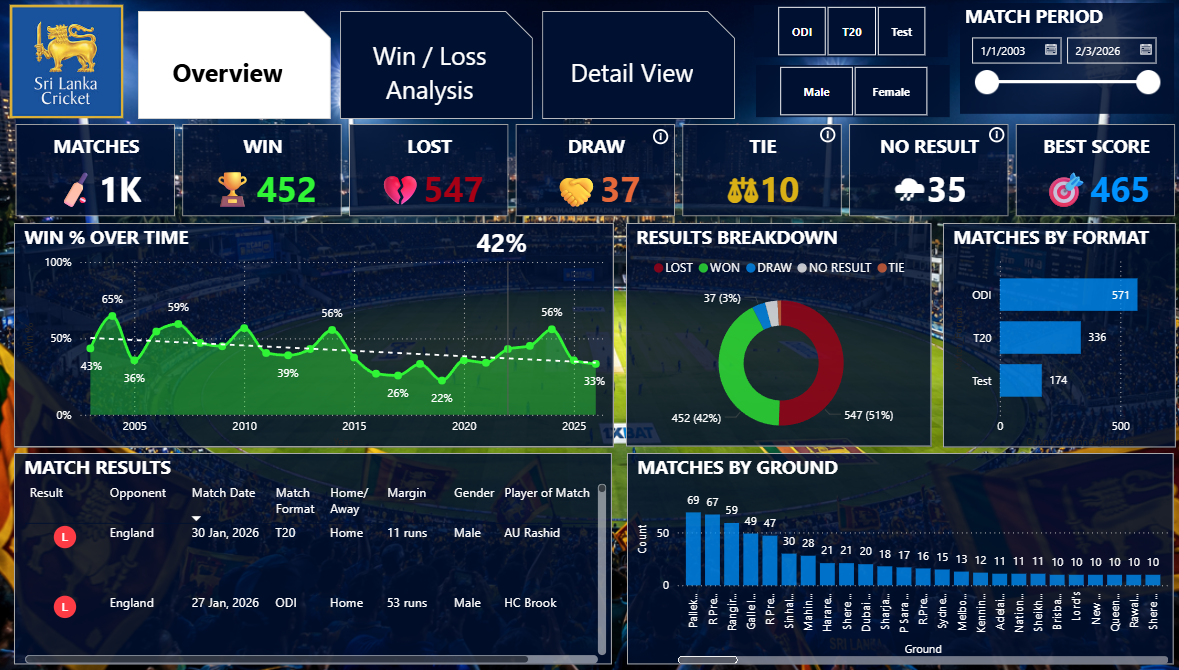

This screenshot's page, from the dashboard's own definition file:
{"tool":"powerbi","page":{"name":"Overview","canvas":[1280,720],"ordinal":0},"visuals":[{"type":"image","box":[8.8,0,132.3,132.3],"z":0},{"type":"cardVisual","fields":{"Data":["Measures (2).No of Matches","Measures (2).SL_Wins","Measures (2).Opponent_Wins","Measures (2).SL_Draws","Measures (2).SL_Ties","Measures (2).SL_NoResult","Measures (2).Biggest Win (Runs)"]},"box":[14.7,132.7,1257.8,99.6],"z":1000},{"type":"clusteredBarChart","title":"MATCHES BY FORMAT","fields":{"Category":["SLcricketData.Match_Format"],"Y":["CountNonNull(SLcricketData.Winner_Update)"]},"box":[1016.3,239.7,249.5,240.9],"z":2000},{"type":"slicer","title":"MATCH FORMAT","fields":{"Values":["SLcricketData.Match_Format"]},"box":[813.4,5,208.3,56.1],"z":4000},{"type":"slicer","title":"MATCH PERIOD","fields":{"Values":["Calendar.Date"]},"box":[1034.2,3.7,229.6,118.5],"z":5000},{"type":"areaChart","title":"WIN % OVER TIME","fields":{"Category":["Calendar.Date.Variation.Date Hierarchy.Year","Calendar.Date.Variation.Date Hierarchy.Quarter","Calendar.Date.Variation.Date Hierarchy.Month","Calendar.Date.Variation.Date Hierarchy.Day"],"Y":["Measures (2).Win %"]},"box":[18.5,239.5,643.8,240.9],"z":6000},{"type":"cardVisual","fields":{"Data":["Measures (2).Win %"]},"box":[492.8,234.5,98.6,42.4],"z":7000},{"type":"donutChart","title":"RESULTS BREAKDOWN","fields":{"Category":["SLcricketData.Winner_Update"],"Series":["SLcricketData.Winner_Update"],"Y":["CountNonNull(SLcricketData.Winner_Update)"]},"box":[674.9,239.5,328.1,240],"z":8000},{"type":"slicer","title":"MATCH FORMAT","fields":{"Values":["SLcricketData.Gender"]},"box":[814.7,69.9,208.3,56.1],"z":9000},{"type":"tableEx","title":"MATCH RESULTS","fields":{"Values":["SLcricketData.Result Indicator Col","SLcricketData.Opponent","SLcricketData.Match_Date","SLcricketData.Match_Format","SLcricketData.Home_Away","SLcricketData.Margin","SLcricketData.Gender","SLcricketData.Player_of_Match","SLcricketData.Winner_Update"]},"box":[18.8,486.2,642,226.5],"z":10000},{"type":"clusteredColumnChart","title":"MATCHES BY GROUND","fields":{"Category":["SLcricketData.Ground"],"Y":["CountNonNull(SLcricketData.Ground)"]},"box":[676.5,486.4,587.4,227.1],"z":11000},{"type":"pageNavigator","box":[151.4,11.6,642.6,116.5],"z":12000},{"type":"actionButton","box":[700,134.2,25,25],"z":13000},{"type":"actionButton","box":[879.2,132.3,25.2,25.2],"z":14000},{"type":"actionButton","box":[1060.9,132.1,25.2,25.2],"z":15000}]}

Visuals, with their boxes in screenshot pixels (x1, y1, x2, y2), scaled from the page's 1280x720 canvas onto the 1179x670 screenshot:
image: (8, 0, 130, 123)
cardVisual - Measures (2).No of Matches x Measures (2).SL_Wins: (14, 123, 1172, 216)
"MATCHES BY FORMAT" clusteredBarChart: (936, 223, 1166, 447)
"MATCH FORMAT" slicer: (749, 5, 941, 57)
"MATCH PERIOD" slicer: (953, 3, 1164, 114)
"WIN % OVER TIME" areaChart: (17, 223, 610, 447)
cardVisual - Measures (2).Win %: (454, 218, 545, 258)
"RESULTS BREAKDOWN" donutChart: (622, 223, 924, 446)
"MATCH FORMAT" slicer: (750, 65, 942, 117)
"MATCH RESULTS" tableEx: (17, 452, 609, 663)
"MATCHES BY GROUND" clusteredColumnChart: (623, 453, 1164, 664)
pageNavigator: (139, 11, 731, 119)
actionButton: (645, 125, 668, 148)
actionButton: (810, 123, 833, 147)
actionButton: (977, 123, 1000, 146)
